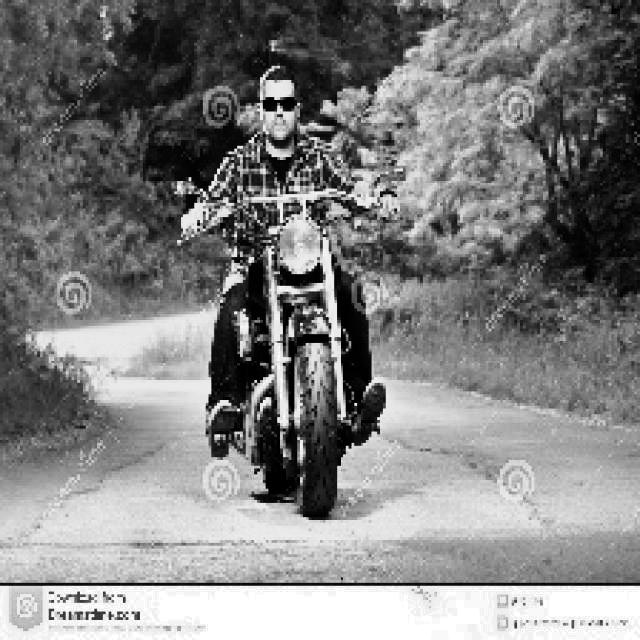Bike: (218, 182, 363, 528)
